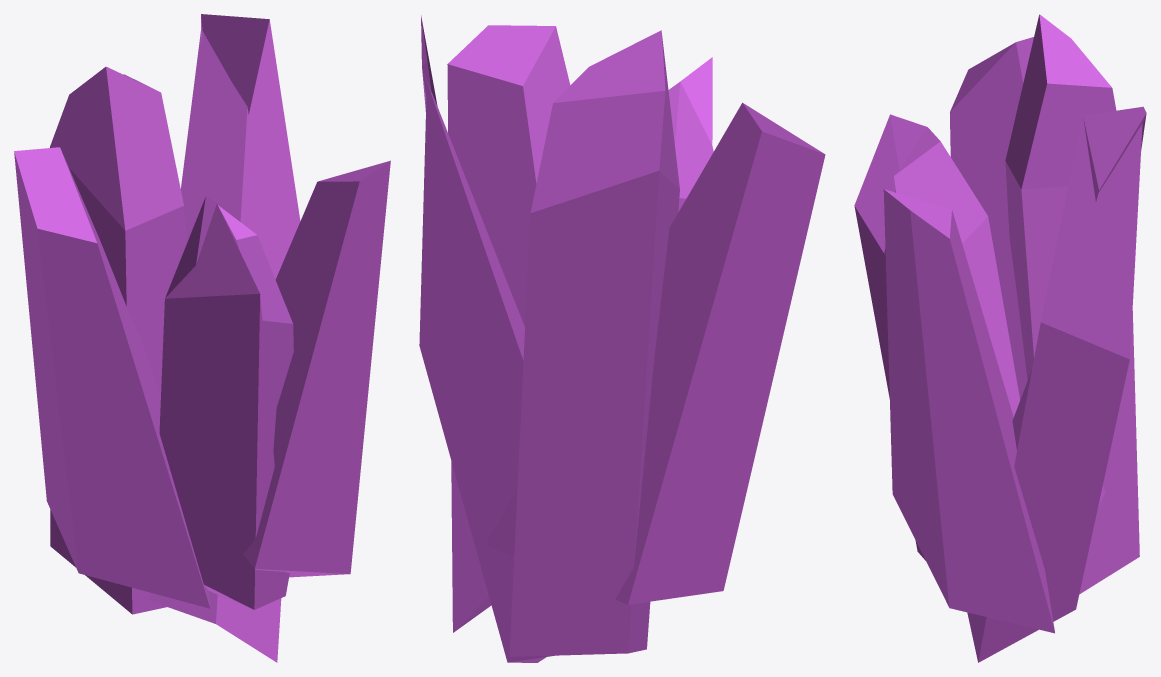
File: ENV_Crystals.fbx
3 renders of one model, left to right at view 1: azimuth 30°, elevation 25°; view 2: azimuth 150°, elevation 25°; view 3: azimuth 270°, elevation 25°, orthographic. The views are drawn at different scales.
Visible parts, largest first — view 1: Cube.009; view 2: Cube.009; view 3: Cube.009.
Boxes of the visible parts, x1=… form: Cube.009: x1=14, y1=14, x2=390, y2=662; Cube.009: x1=419, y1=15, x2=825, y2=662; Cube.009: x1=854, y1=14, x2=1146, y2=662.
Bounding box in the file's own units: 28.26 × 36.3 × 62.29.
